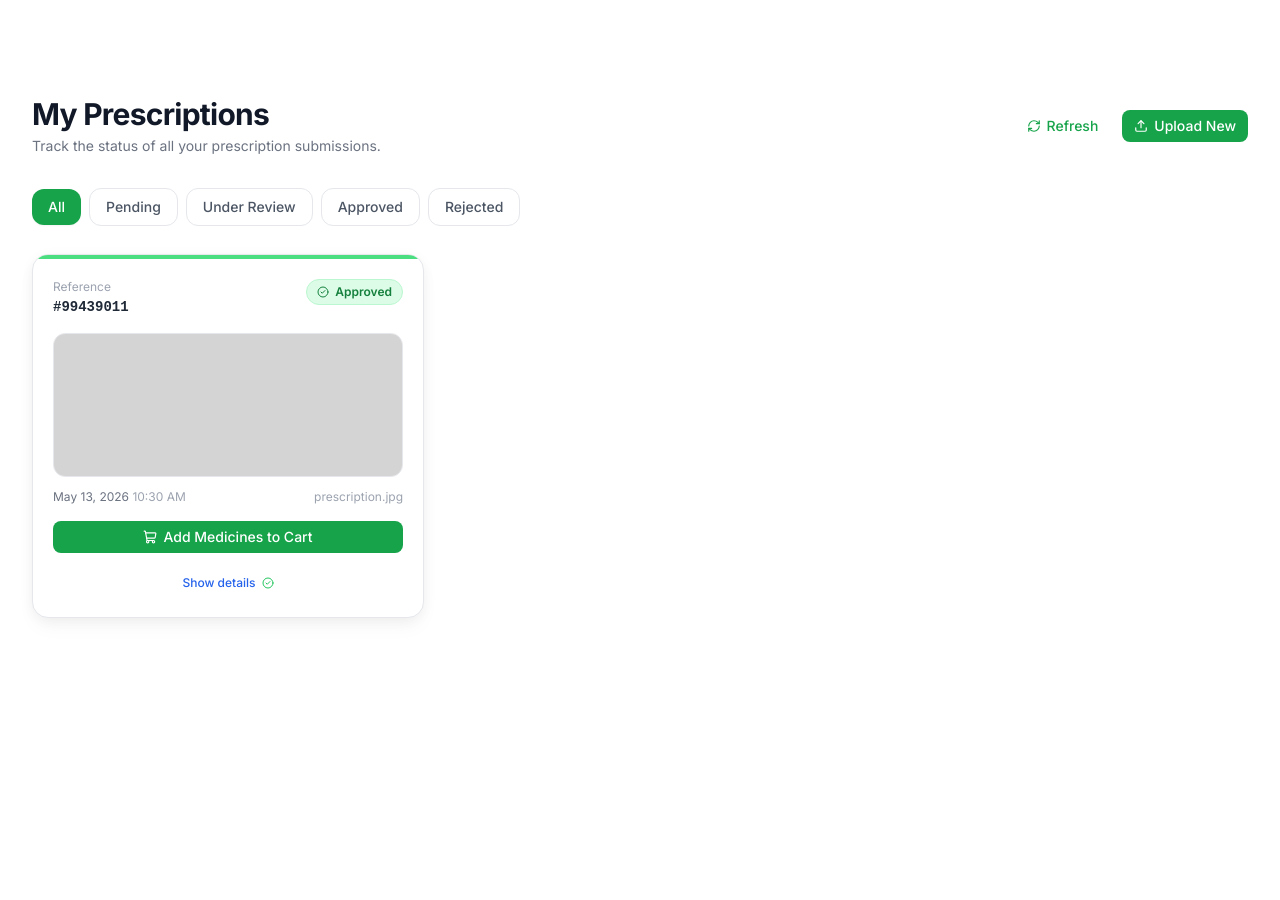
Test case: Recommended medicines › shows recommended medicines when prescription is approved
This screenshot has width=1280, height=900.
Step 1. Click the button with test id "expand-button" → (228, 583), box [53, 569, 403, 597]
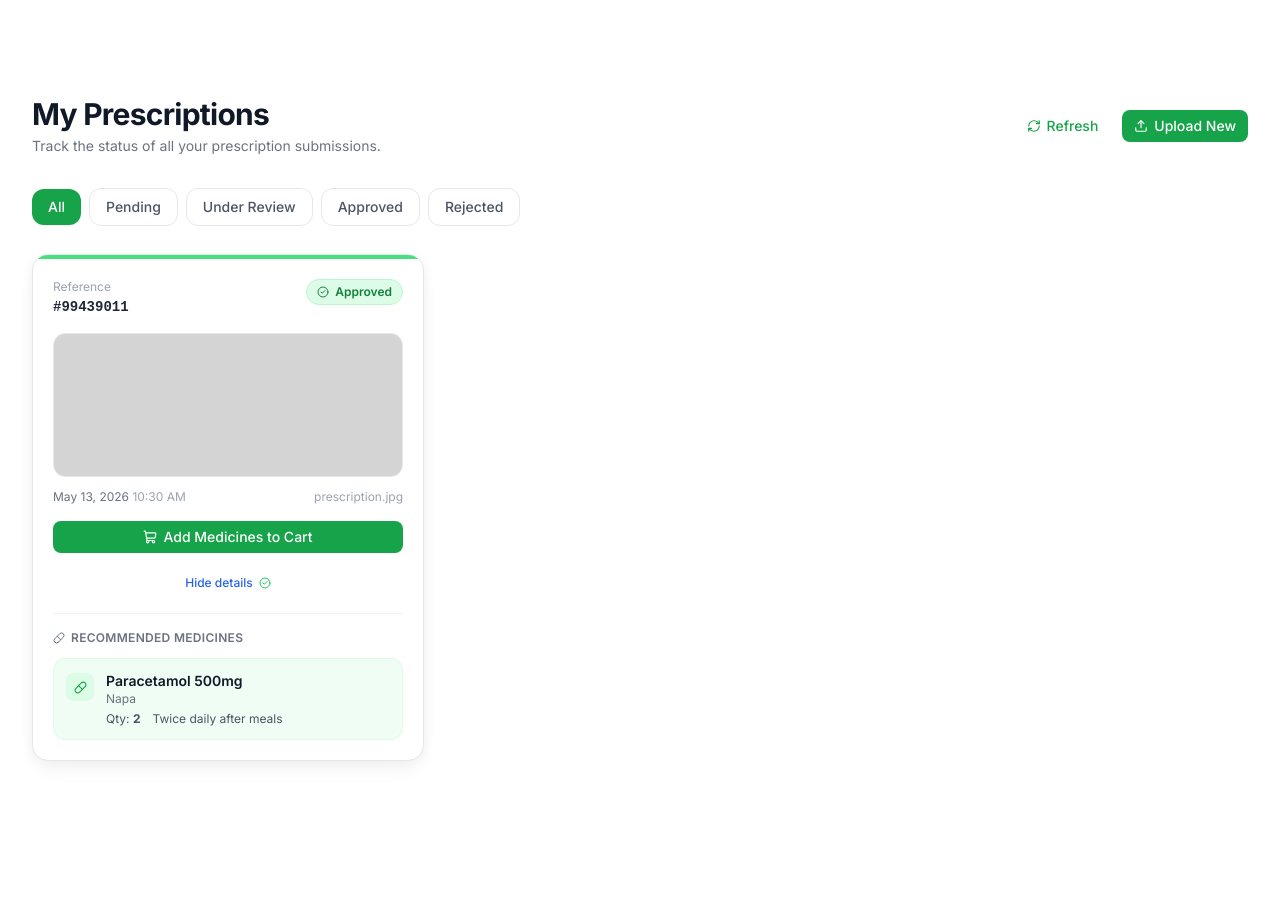
Expected: the element with test id "recommended-medicines" is shown, [53, 613, 403, 740]
Expected: the text "Paracetamol 500mg" is shown, [106, 672, 243, 689]
Expected: the text "Napa" is shown, [106, 691, 136, 706]
